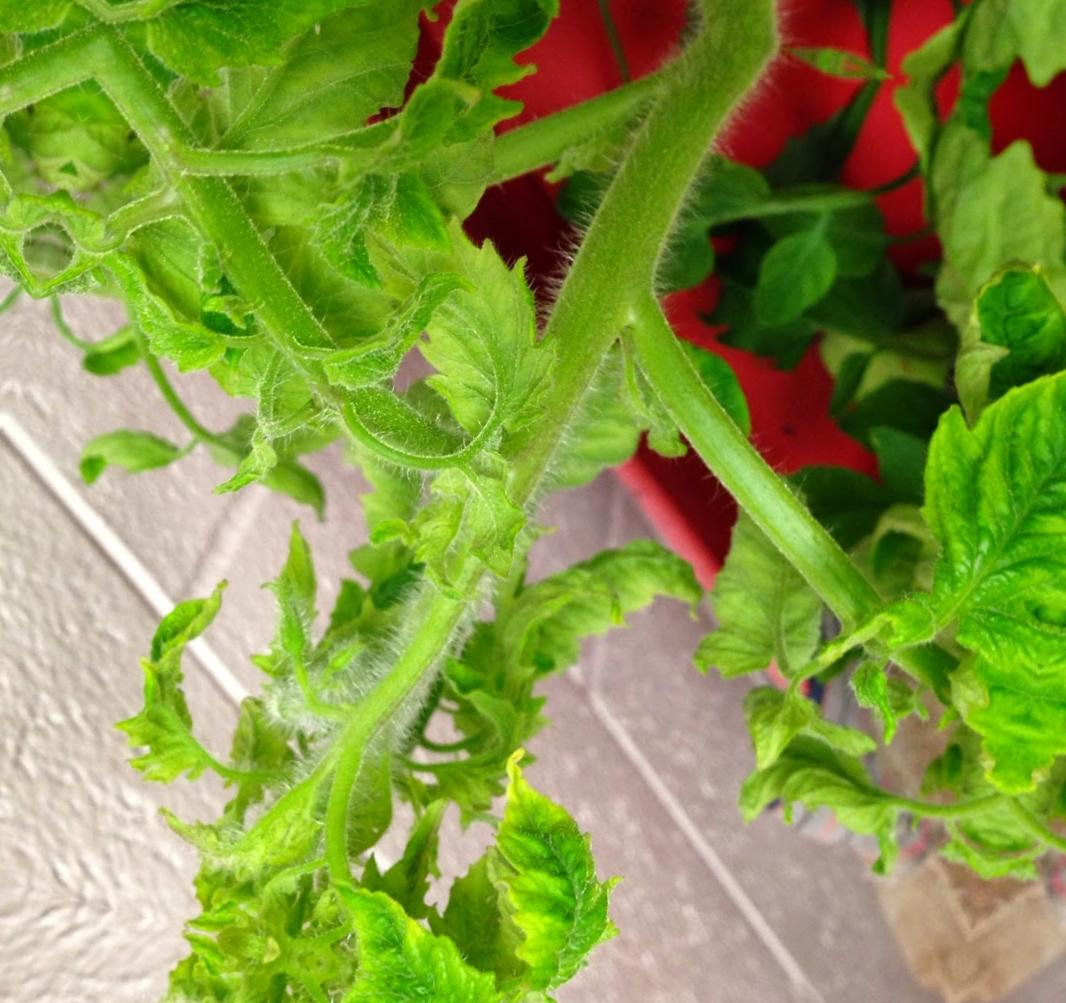Tomato leaf yellow virus: (846, 304, 1066, 708), (426, 707, 670, 1003), (373, 0, 668, 232), (335, 205, 581, 477), (96, 0, 447, 146), (301, 844, 531, 1003)
